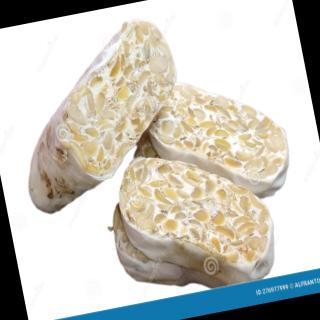Tempe: (1, 12, 199, 217), (139, 63, 298, 218)
